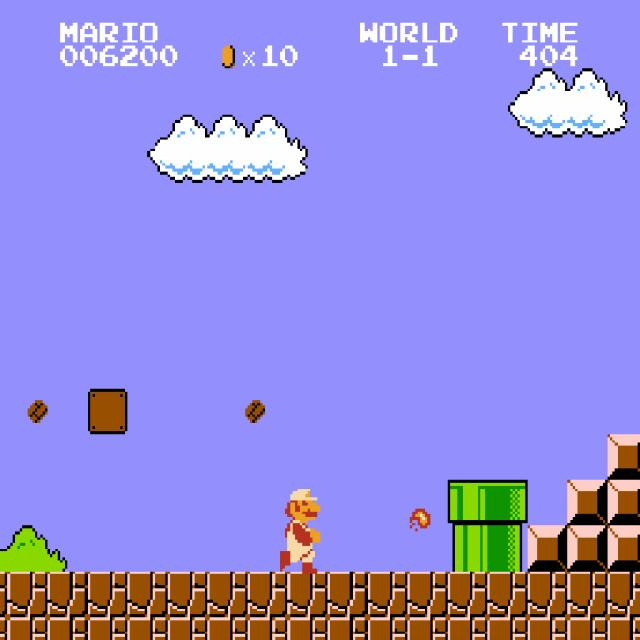empty_block: (87, 389, 128, 434)
fire_mario: (277, 480, 320, 574)
fireball: (410, 506, 430, 532)
hard_block: (567, 480, 608, 526), (527, 526, 568, 571), (567, 526, 608, 571), (607, 525, 640, 571), (607, 434, 640, 479), (607, 480, 640, 525)
pipe: (447, 526, 488, 571), (487, 526, 528, 571)
pipe_head: (447, 480, 488, 526), (487, 480, 528, 526)
undestructible_block: (7, 572, 48, 617), (47, 572, 88, 617), (87, 572, 128, 617), (127, 572, 168, 617), (167, 572, 208, 617), (207, 572, 248, 617), (247, 572, 288, 617), (287, 572, 328, 617), (327, 572, 368, 617), (367, 572, 408, 617), (407, 572, 448, 617), (447, 572, 488, 617), (487, 572, 528, 617), (527, 572, 568, 617), (567, 572, 608, 617), (607, 571, 640, 617), (7, 617, 48, 640), (47, 617, 88, 640), (87, 617, 128, 640), (127, 617, 168, 640), (167, 617, 208, 640), (207, 617, 248, 640), (247, 617, 288, 640), (287, 617, 328, 640), (327, 617, 368, 640), (367, 617, 408, 640), (407, 617, 448, 640), (447, 617, 488, 640), (487, 617, 528, 640), (527, 617, 568, 640), (567, 617, 608, 640), (607, 617, 640, 639), (0, 572, 7, 617), (0, 617, 7, 640)
